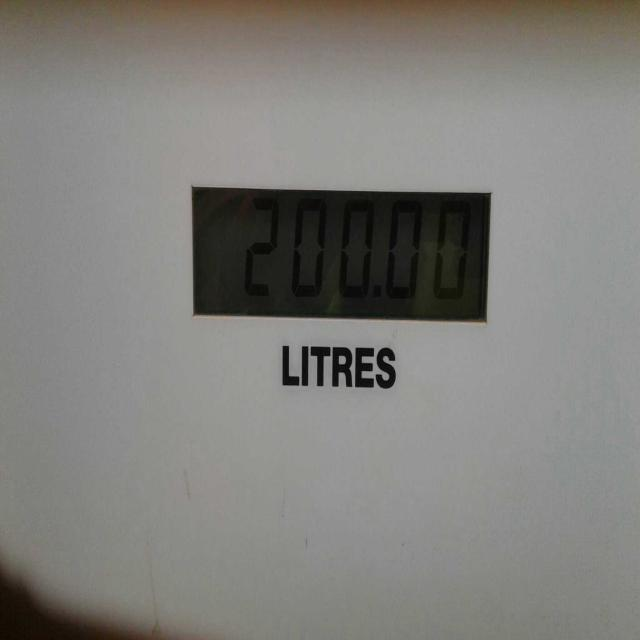.: (371, 275, 387, 304)
0: (381, 192, 429, 310), (331, 194, 376, 305), (432, 194, 473, 311), (293, 195, 326, 315)
2: (241, 187, 287, 308)
